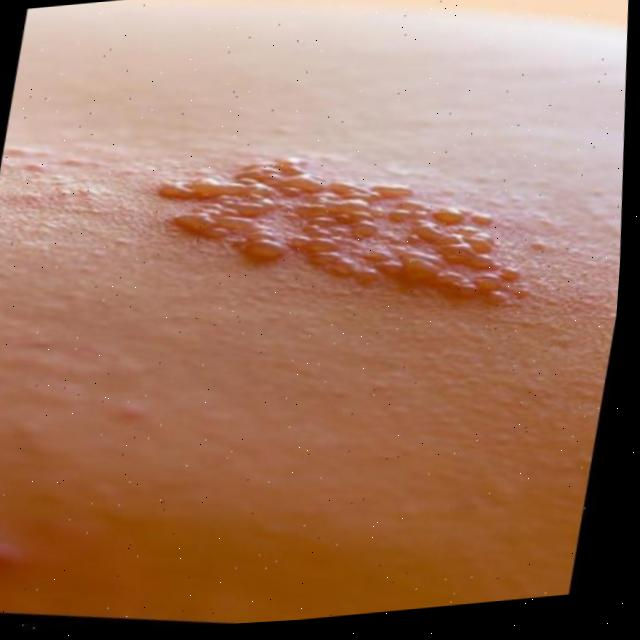Shingles: (175, 145, 530, 324)
